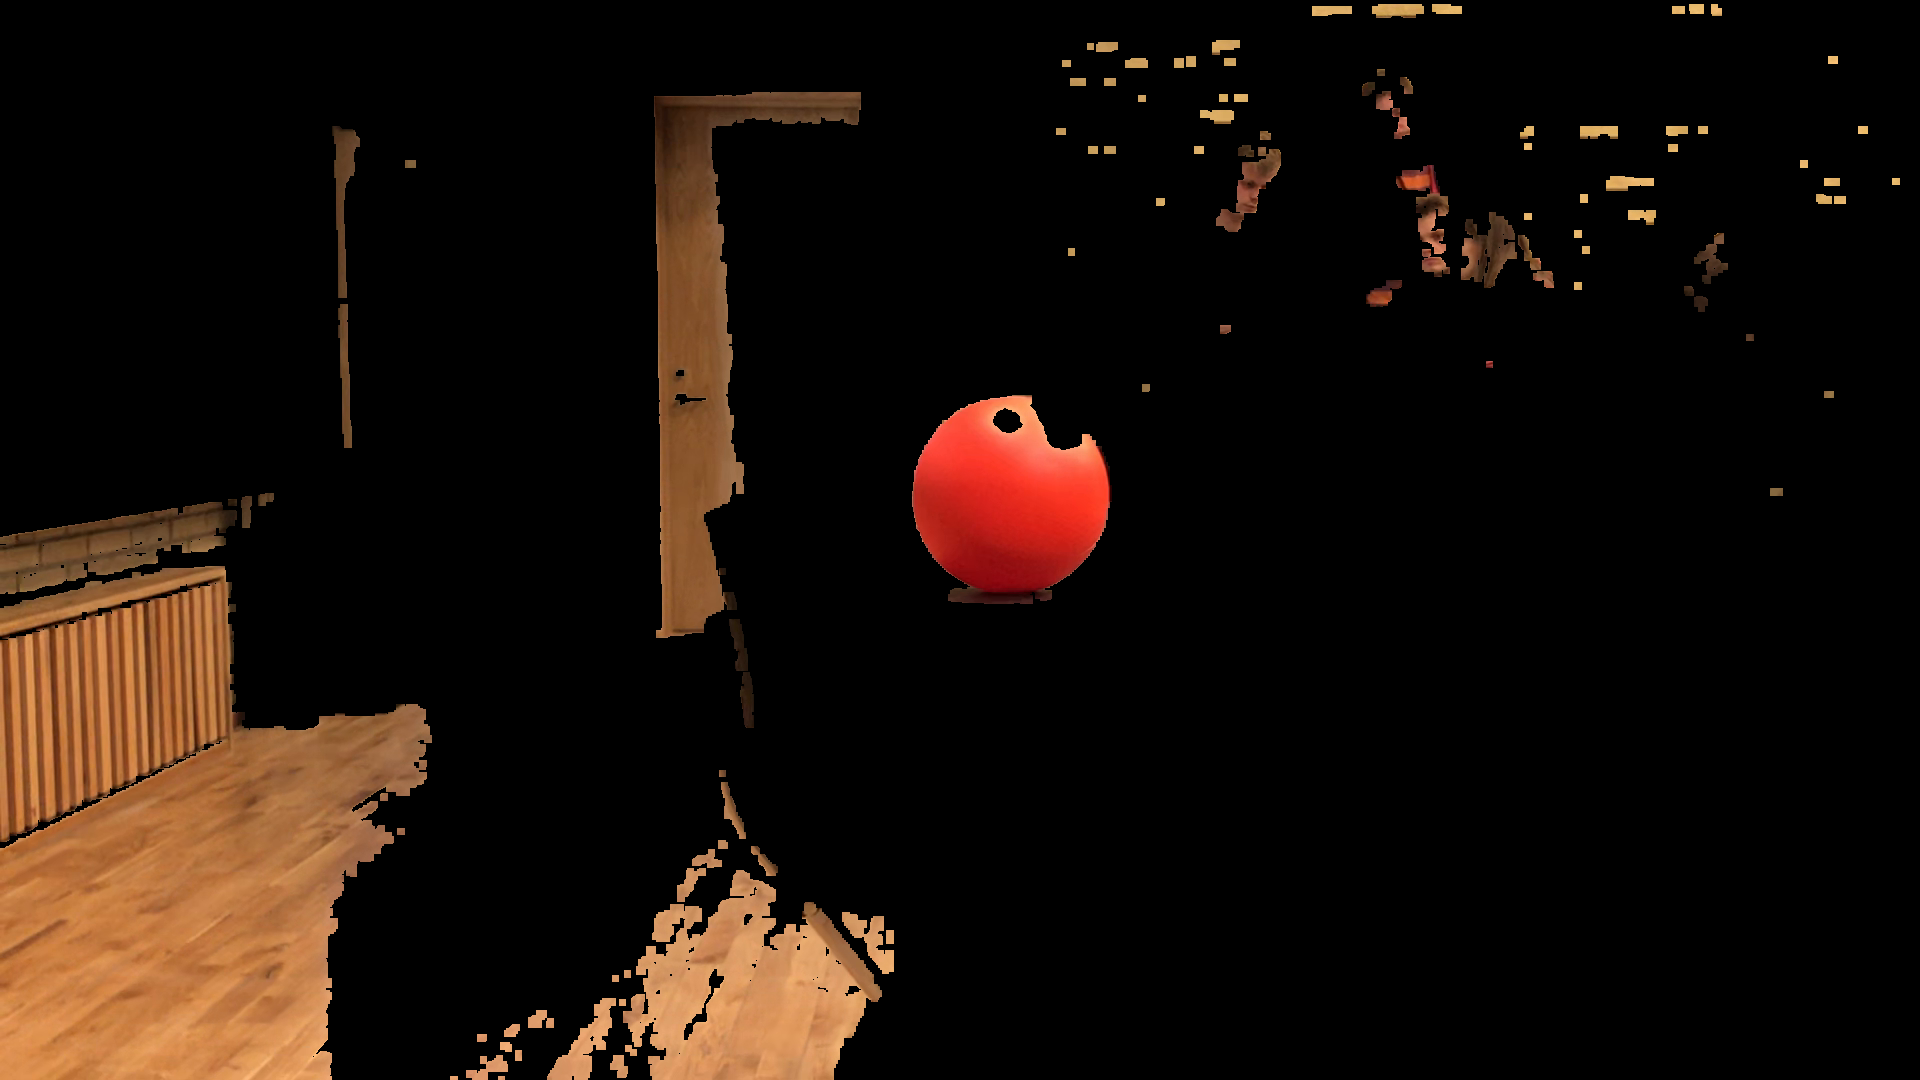Ball: (911, 400, 1116, 596)
